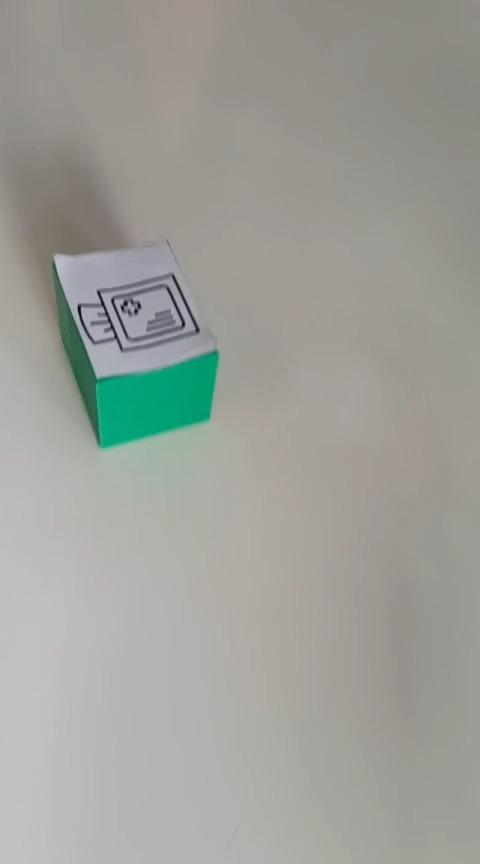Gauze: (50, 237, 220, 449)
